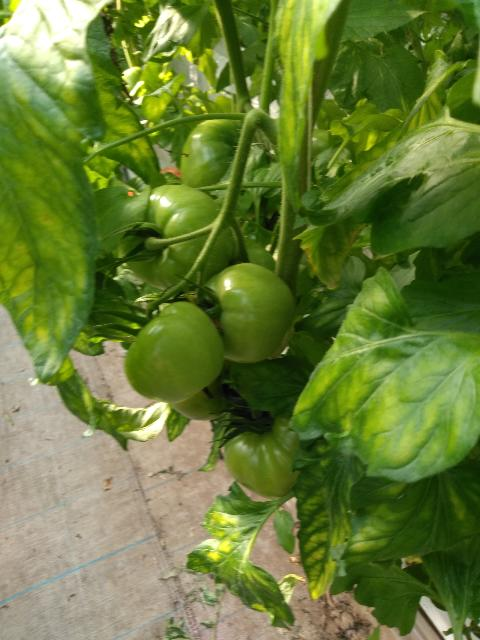b_green: (119, 184, 233, 293), (123, 301, 225, 404), (199, 263, 296, 364), (224, 411, 300, 499), (181, 120, 245, 200), (169, 375, 233, 421)
